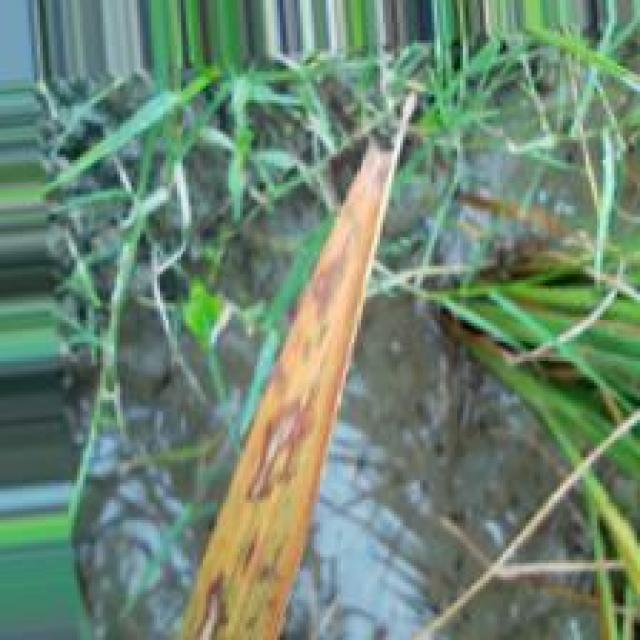Narrow_Brown_Leaf_Spot: (174, 144, 401, 640)
